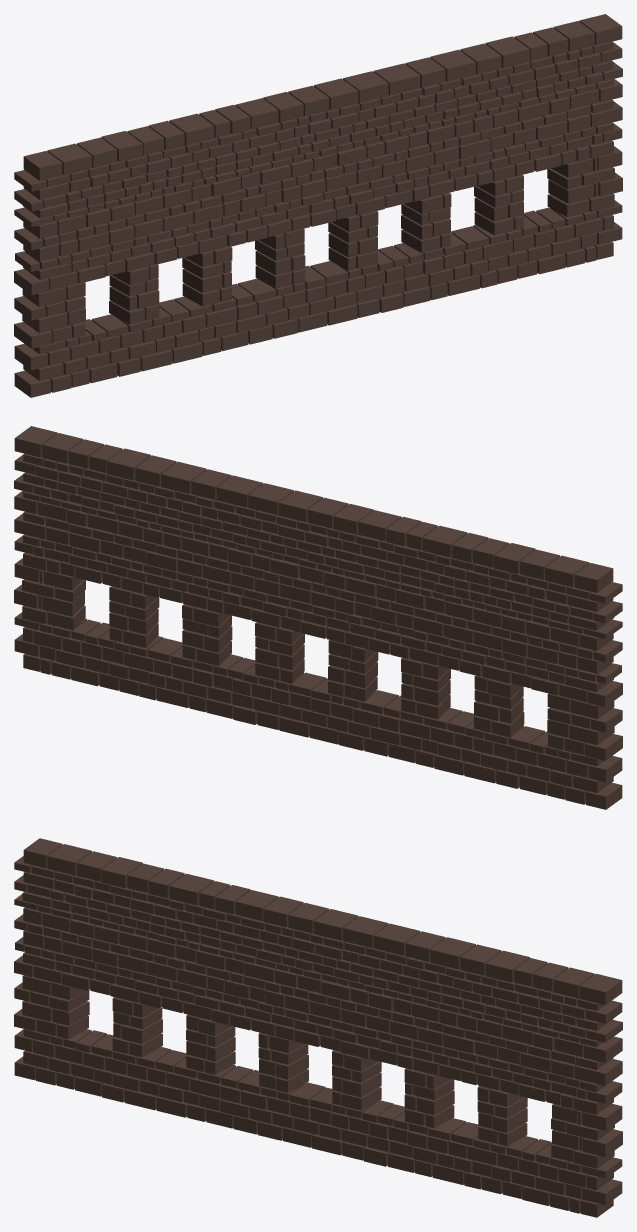
The model's file is wall1.fbx.
3 views of the same model, one above another, from view 1: azimuth 30°, elevation 25°; view 2: azimuth 150°, elevation 25°; view 3: azimuth 330°, elevation 25° (orthographic).
Visible parts, largest first — view 1: Wall.001; view 2: Wall.001; view 3: Wall.001.
Part boxes in pixels (<box>): Wall.001: <box>14,14,622,397</box>; Wall.001: <box>14,426,622,809</box>; Wall.001: <box>14,838,622,1217</box>.
Bounding box in the file's own units: 4051 × 1490 × 210.
